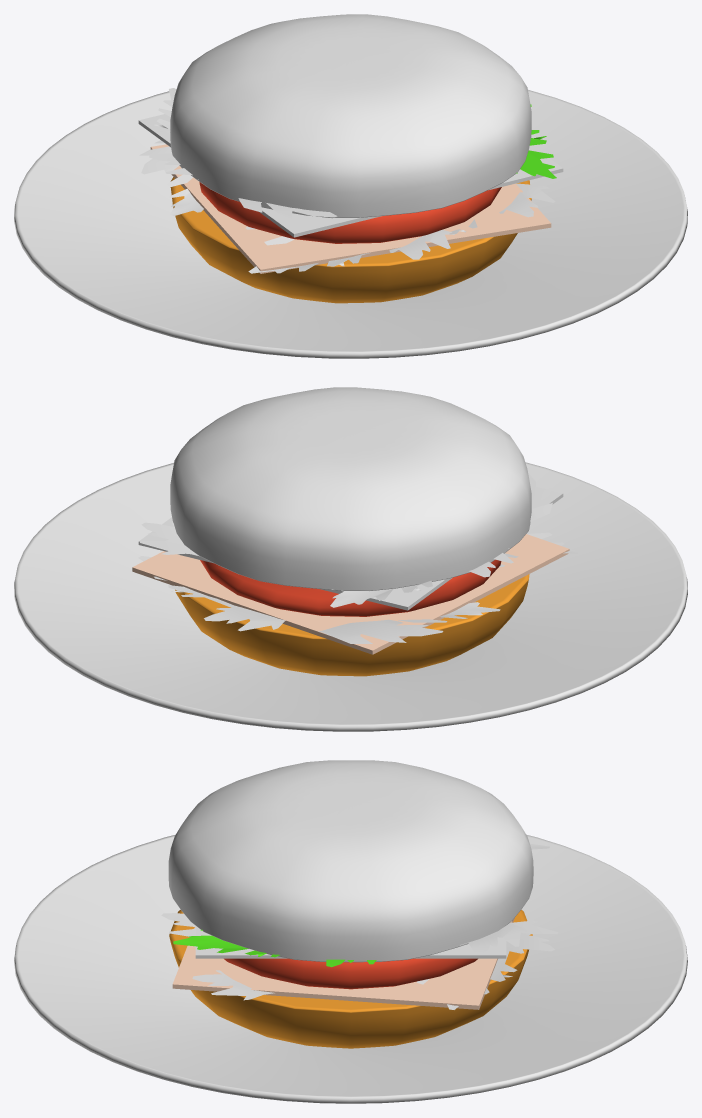
The model's file is ExportedBlenderFBXFile.fbx.
3 renders of one model, top to bottom at view 1: azimuth 30°, elevation 25°; view 2: azimuth 150°, elevation 25°; view 3: azimuth 270°, elevation 25°, orthographic.
Parts seen in each view (by area): view 1: Circle.001, Sphere, Sphere.001, Plane, Circle, Plane.001, parsley.006, parsley.005, parsley.004, parsley.001, parsley.000, parsley.002; view 2: Circle.001, Sphere, Sphere.001, Plane, Circle, parsley.005, Plane.001, parsley.007, parsley.000, parsley.003, parsley.002; view 3: Circle.001, Sphere, Sphere.001, Plane, Circle, Plane.001, parsley.007, parsley.001, parsley.004, parsley.003.
Part boxes in pixels (x1,y1,x2,y2): Circle.001: (14, 90, 687, 358); Sphere: (170, 14, 531, 218); Sphere.001: (170, 177, 531, 303); Plane: (150, 144, 551, 273); Circle: (199, 182, 501, 243); Plane.001: (138, 114, 563, 237); parsley.006: (245, 226, 454, 273); parsley.005: (139, 140, 203, 215); parsley.004: (449, 183, 555, 234); parsley.001: (516, 104, 556, 178); parsley.000: (149, 88, 198, 179); parsley.002: (238, 198, 337, 218); Circle.001: (14, 462, 687, 731); Sphere: (170, 387, 531, 590); Sphere.001: (175, 574, 529, 676); Plane: (132, 534, 569, 654); Circle: (200, 559, 501, 616); parsley.005: (318, 602, 500, 643); Plane.001: (138, 486, 563, 610); parsley.007: (138, 556, 285, 631); parsley.000: (330, 548, 513, 607); parsley.003: (140, 522, 196, 554); parsley.002: (528, 473, 552, 521); Circle.001: (14, 834, 687, 1103); Sphere: (168, 760, 533, 962); Sphere.001: (169, 910, 532, 1048); Plane: (172, 918, 514, 1009); Circle: (224, 958, 477, 989); Plane.001: (195, 926, 506, 958); parsley.007: (417, 920, 558, 1009); parsley.001: (173, 929, 376, 967); parsley.004: (192, 946, 274, 1000); parsley.003: (460, 923, 530, 954).
Size of the model in its own units: 3.47 by 1.16 by 3.47.
